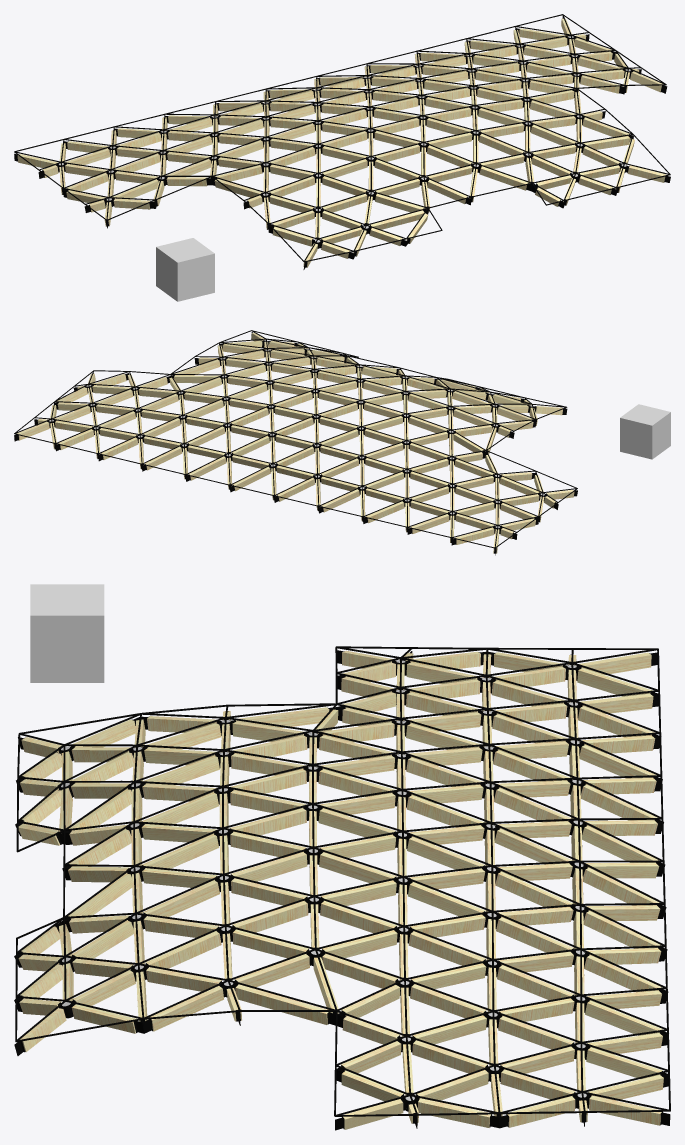
3 renders of one model, top to bottom at view 1: azimuth 30°, elevation 25°; view 2: azimuth 150°, elevation 25°; view 3: azimuth 270°, elevation 25°, orthographic. The views are drawn at different scales.
Parts seen in each view (by area): view 1: Blend, Cube; view 2: Blend, Cube; view 3: Blend, Cube.
Boxes of the visible parts, bbox=[...] form: Blend: bbox=[14, 14, 670, 269]; Cube: bbox=[156, 238, 214, 301]; Blend: bbox=[14, 330, 577, 555]; Cube: bbox=[620, 404, 670, 459]; Blend: bbox=[14, 646, 670, 1130]; Cube: bbox=[30, 584, 104, 682].
Size of the model in its own units: 30.93 by 2.36 by 17.74.
6 materials, 2 textured.
